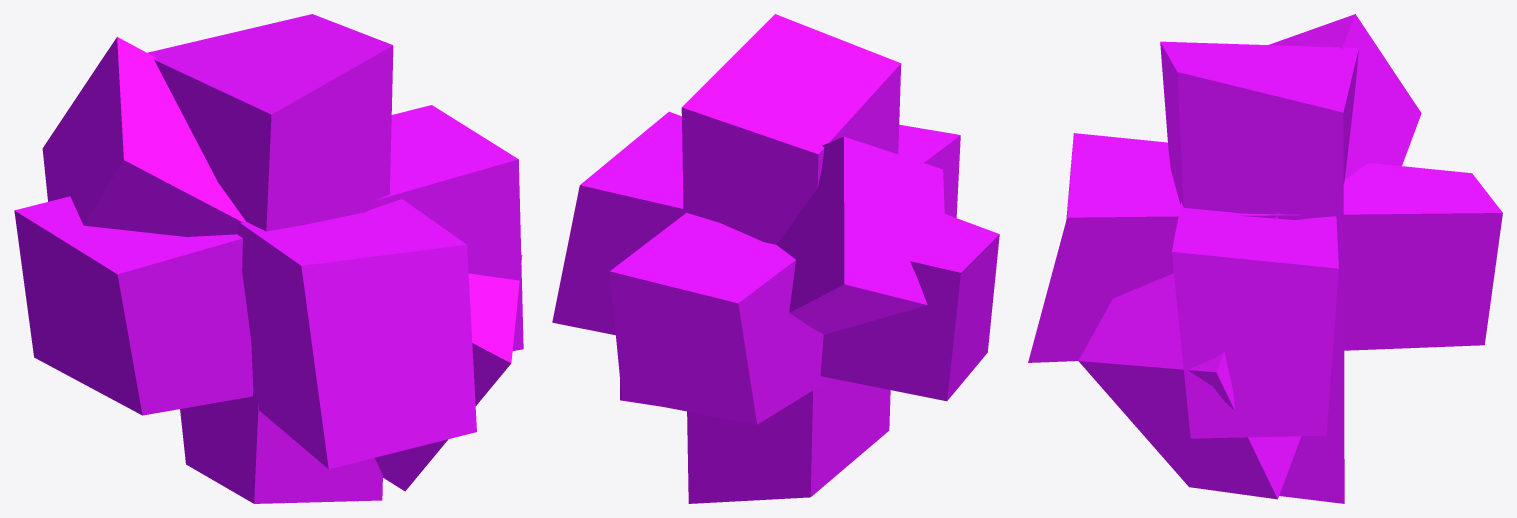
Rendered from cube-gem.glb.
The picture shows the model from 3 angles, left to right: view 1: azimuth 30°, elevation 25°; view 2: azimuth 150°, elevation 25°; view 3: azimuth 270°, elevation 25°; orthographic projection. The views are drawn at different scales.
Parts seen in each view (by area): view 1: Cube.002, Cube, Cube.001, Cube.004; view 2: Cube, Cube.001, Cube.002, Cube.004; view 3: Cube.001, Cube, Cube.002, Cube.004.
Part boxes in pixels (x1,y1,x2,y2): Cube.002: (14, 105, 523, 415); Cube: (147, 14, 393, 503); Cube.001: (237, 199, 476, 469); Cube.004: (42, 37, 522, 491); Cube: (681, 14, 901, 503); Cube.001: (609, 124, 960, 424); Cube.002: (552, 111, 999, 401); Cube.004: (620, 136, 945, 406); Cube.001: (1028, 133, 1502, 362); Cube: (1160, 41, 1358, 503); Cube.002: (1171, 202, 1338, 438); Cube.004: (1078, 14, 1421, 499).
Size of the model in its own units: 1.22 by 1.22 by 1.22.
